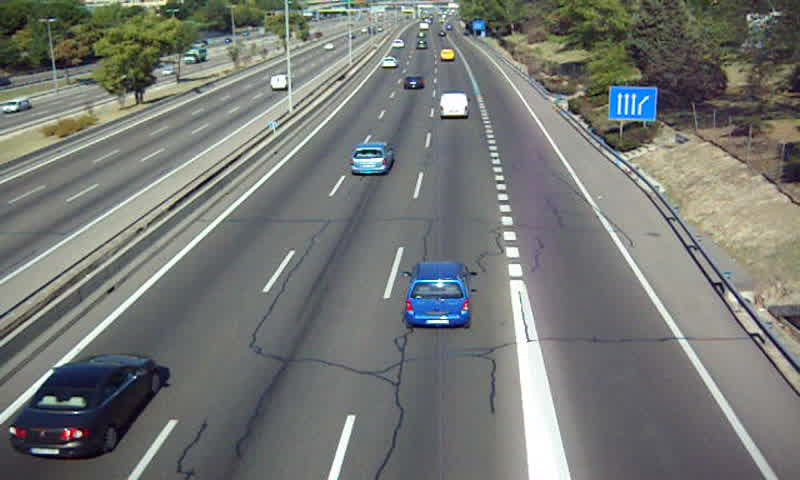car: (10, 354, 161, 458), (404, 262, 472, 328), (350, 140, 392, 174), (401, 75, 424, 90), (380, 57, 398, 72)
van: (439, 92, 469, 118)
